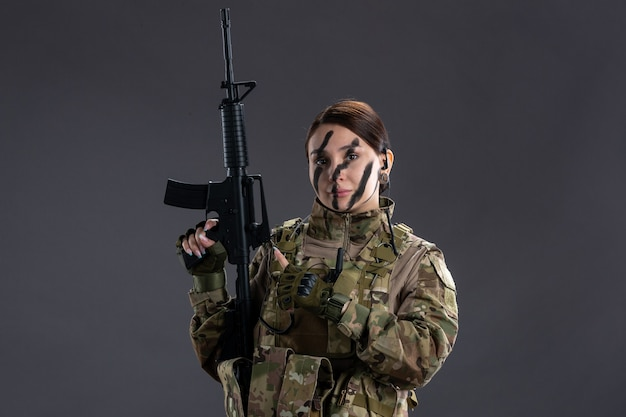gun: (161, 6, 273, 310)
